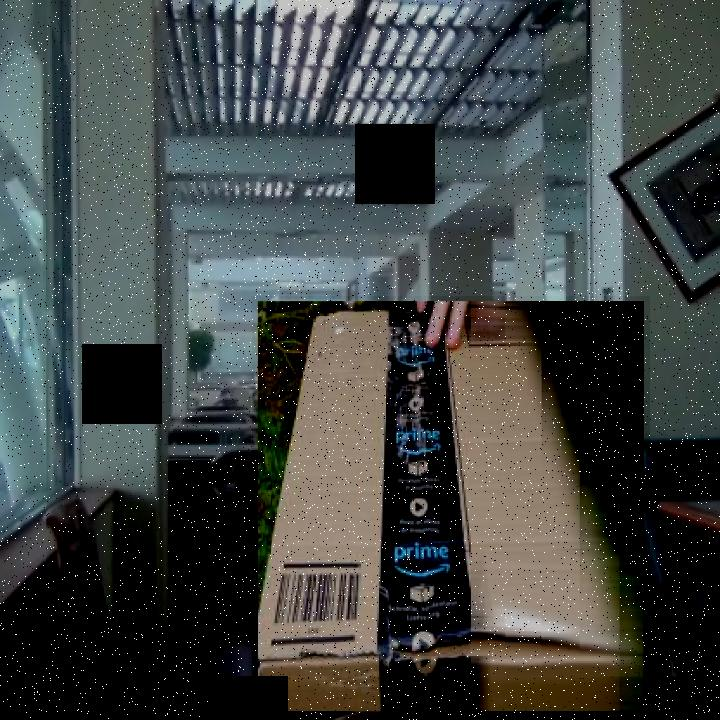box: (252, 296, 650, 718)
